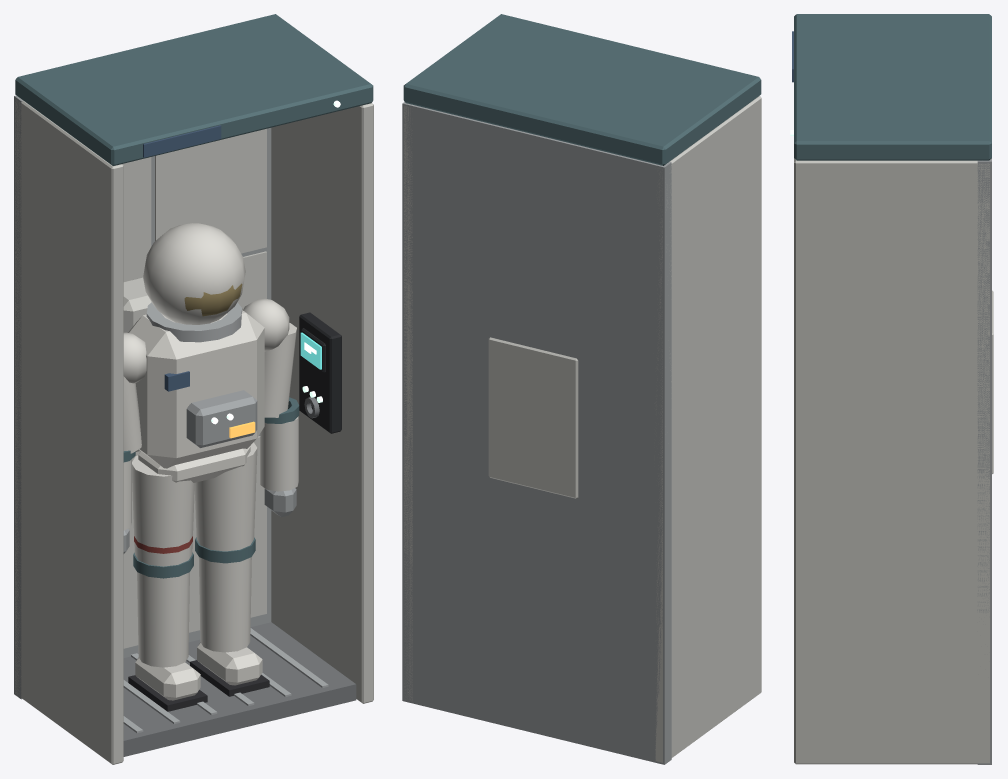
File: astro_suit_locker.fbx
3 views of the same model, side by side, from view 1: azimuth 30°, elevation 25°; view 2: azimuth 150°, elevation 25°; view 3: azimuth 270°, elevation 25° (orthographic).
Parts seen in each view (by area): view 1: SuitLocker_Body; view 2: SuitLocker_Body; view 3: SuitLocker_Body.
Part boxes in pixels (left/top/right/bottom): SuitLocker_Body: left=14, top=14, right=373, bottom=764; SuitLocker_Body: left=402, top=14, right=761, bottom=764; SuitLocker_Body: left=790, top=14, right=993, bottom=764.
Bounding box in the file's own units: 170 × 382 × 113.
